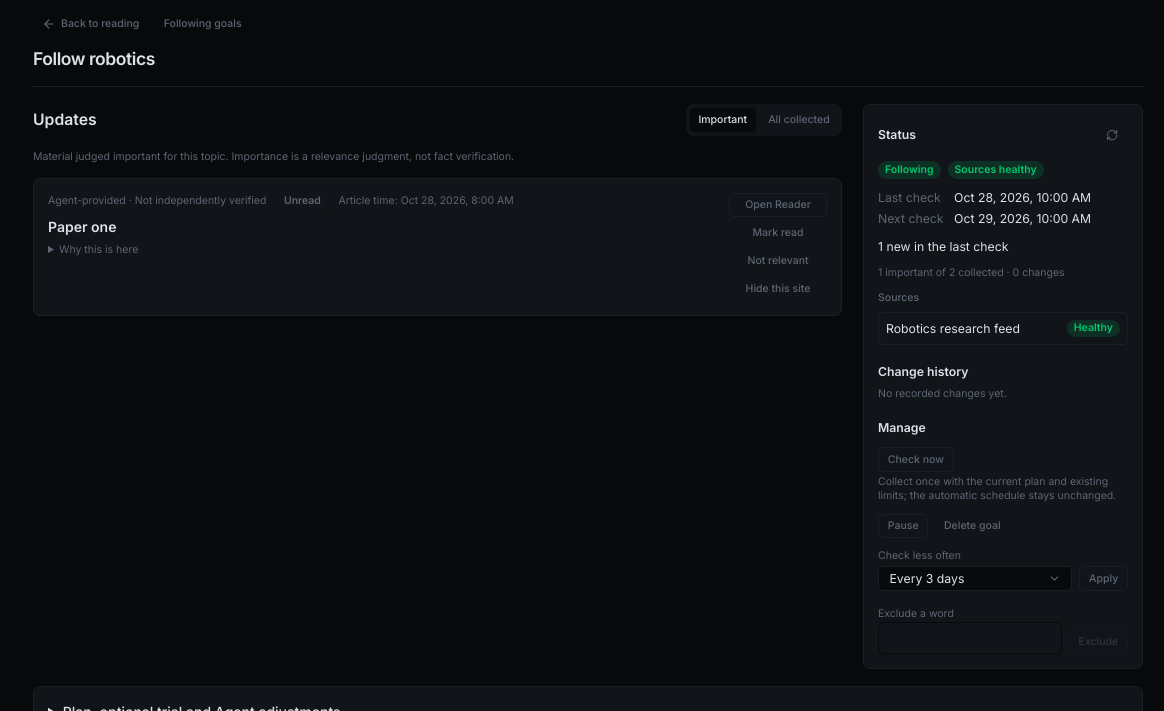
it: opens on the important update stream with freshness, judgment source and reason, and returns from Reader to the same topic view
Expected: the text "Agent-provided · Not independently verified" is shown, left=48, top=194, right=266, bottom=208
Click the button "All collected": click(799, 120) left=759, top=108, right=838, bottom=132
(page scrolled)
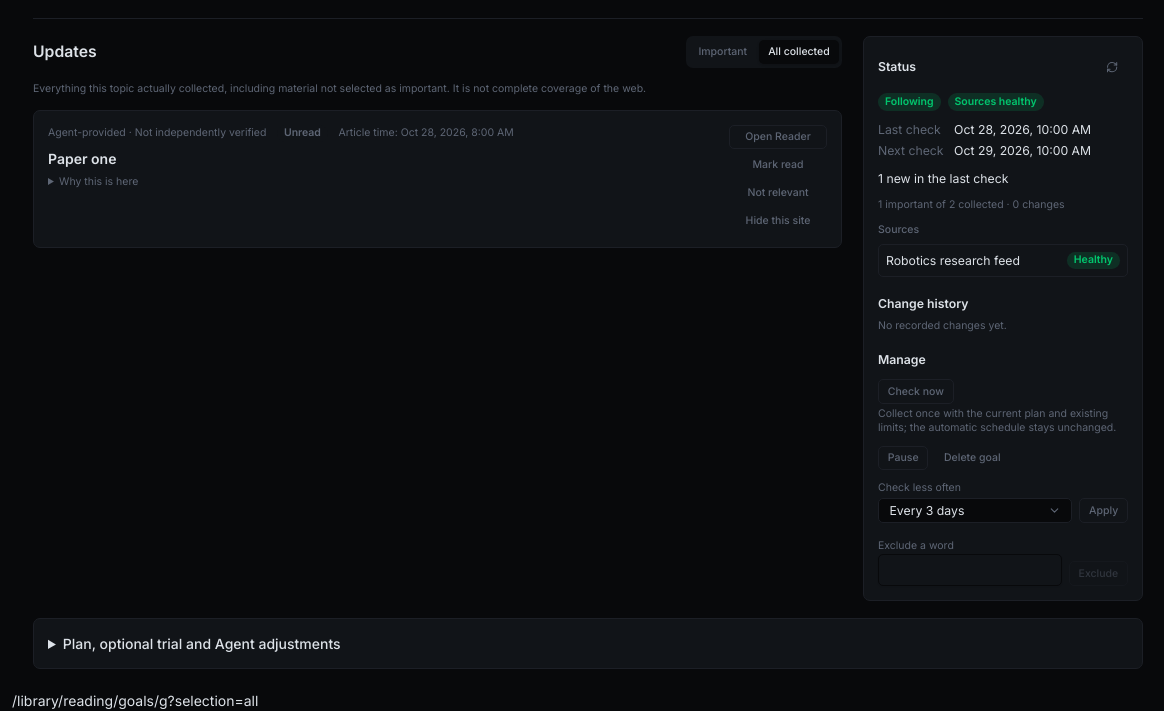
Expected: the text with test id "where" reads "/library/reading/goals/g?selection=all", left=12, top=692, right=258, bottom=709
